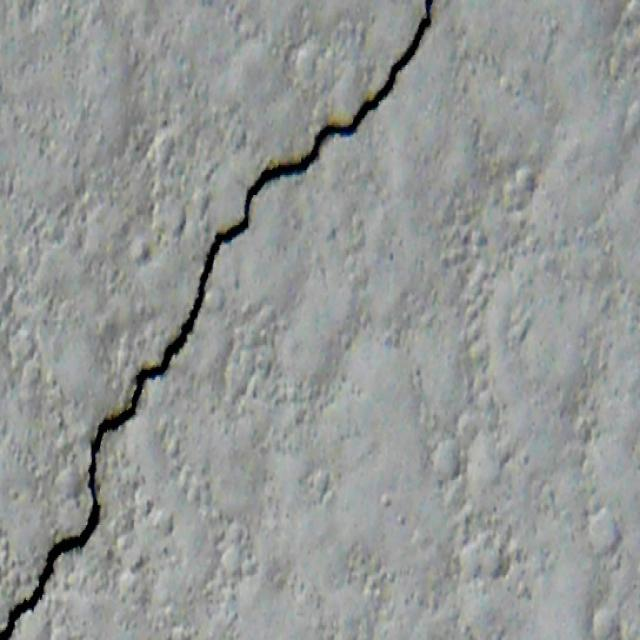crack: (2, 2, 436, 638)
